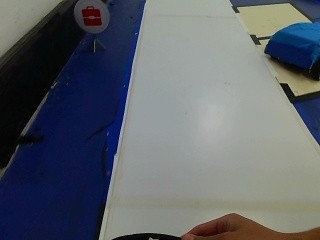company: (71, 3, 110, 32)
